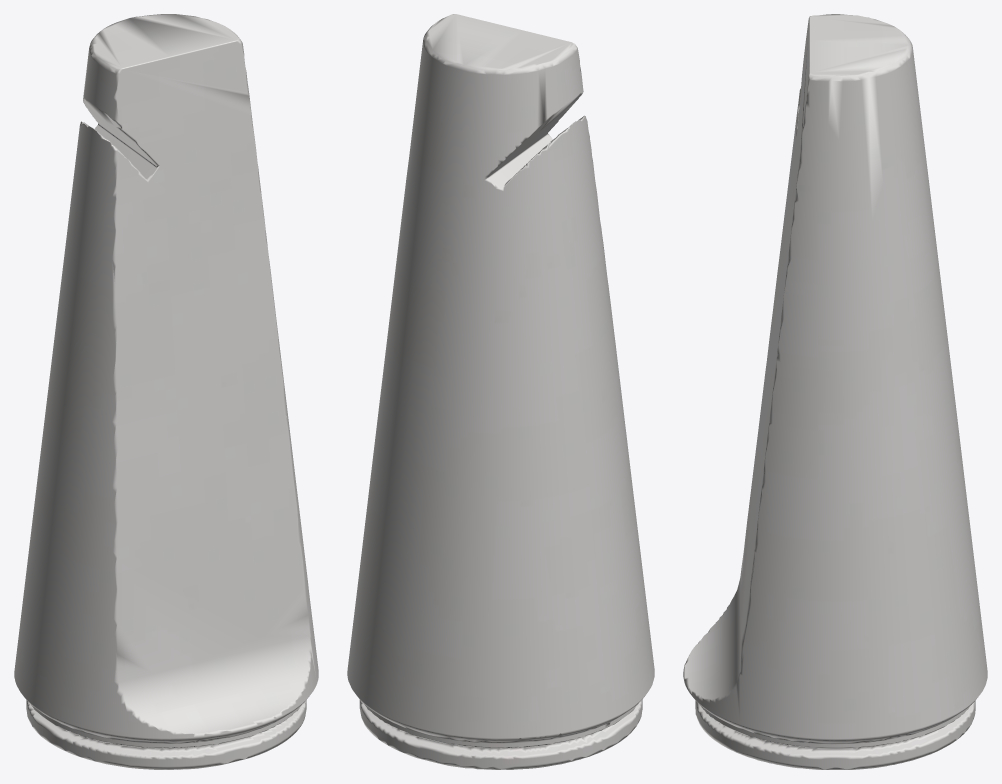
File: bishop-white.glb
The picture shows the model from 3 angles, left to right: view 1: azimuth 30°, elevation 25°; view 2: azimuth 150°, elevation 25°; view 3: azimuth 270°, elevation 25°; orthographic projection.
Visible parts, largest first — view 1: 03_strelec_bila; view 2: 03_strelec_bila; view 3: 03_strelec_bila.
Boxes of the visible parts, x1,y1,x2,y2 form: 03_strelec_bila: (14,14,318,769); 03_strelec_bila: (347,14,654,769); 03_strelec_bila: (683,14,987,769).
Size of the model in its own units: 0.5624 by 1.36 by 0.562.
Materials: 1 (1 with a texture image).
